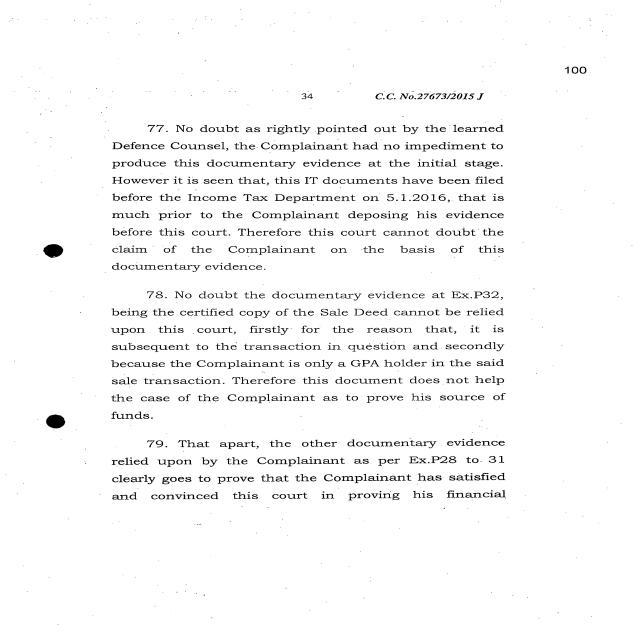page-number: (485, 20, 637, 124)
